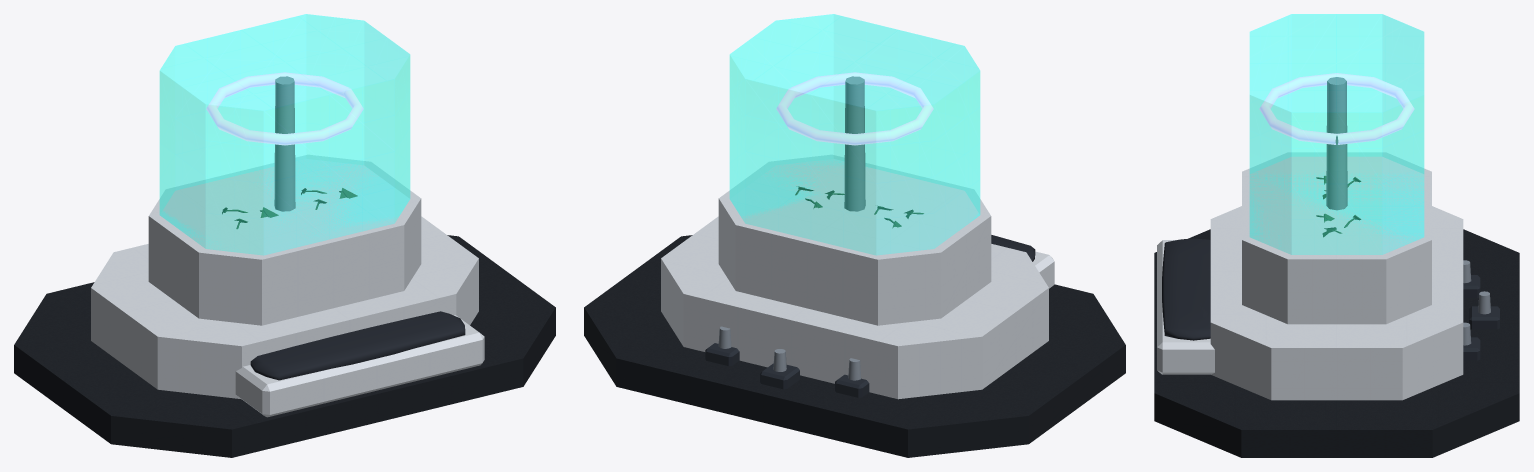
Rendered from prop_04_r1_04.glb.
3 renders of one model, left to right at view 1: azimuth 30°, elevation 25°; view 2: azimuth 150°, elevation 25°; view 3: azimuth 270°, elevation 25°, orthographic.
Visible parts, largest first — view 1: Prop04_C04_aero_white, Prop04_C04_glass_emerald, Prop04_C04_gunmetal, Prop04_C04_pad_charcoal, Prop04_C04_led_uv, Prop04_C04_steel_machined; view 2: Prop04_C04_aero_white, Prop04_C04_glass_emerald, Prop04_C04_gunmetal, Prop04_C04_led_uv, Prop04_C04_steel_machined, Prop04_C04_carbon_slate; view 3: Prop04_C04_aero_white, Prop04_C04_glass_emerald, Prop04_C04_gunmetal, Prop04_C04_pad_charcoal, Prop04_C04_led_uv, Prop04_C04_steel_machined, Prop04_C04_carbon_slate.
Part boxes in pixels (left/top/right/bottom): Prop04_C04_aero_white: left=91, top=154, right=484, bottom=417; Prop04_C04_glass_emerald: left=159, top=14, right=410, bottom=255; Prop04_C04_gunmetal: left=14, top=235, right=555, bottom=457; Prop04_C04_pad_charcoal: left=250, top=311, right=465, bottom=380; Prop04_C04_led_uv: left=206, top=72, right=363, bottom=145; Prop04_C04_steel_machined: left=274, top=76, right=295, bottom=211; Prop04_C04_aero_white: left=661, top=154, right=1054, bottom=399; Prop04_C04_glass_emerald: left=729, top=14, right=980, bottom=255; Prop04_C04_gunmetal: left=584, top=235, right=1125, bottom=457; Prop04_C04_led_uv: left=776, top=72, right=933, bottom=145; Prop04_C04_steel_machined: left=718, top=76, right=865, bottom=380; Prop04_C04_carbon_slate: left=705, top=343, right=869, bottom=397; Prop04_C04_aero_white: left=1157, top=152, right=1463, bottom=400; Prop04_C04_glass_emerald: left=1249, top=14, right=1424, bottom=254; Prop04_C04_gunmetal: left=1154, top=229, right=1519, bottom=457; Prop04_C04_pad_charcoal: left=1162, top=238, right=1210, bottom=340; Prop04_C04_led_uv: left=1259, top=73, right=1414, bottom=144; Prop04_C04_steel_machined: left=1326, top=77, right=1490, bottom=345; Prop04_C04_carbon_slate: left=1463, top=275, right=1499, bottom=360.
Bounding box in the file's own units: 3.6 × 2.26 × 2.6.
9 materials, 9 textured.
